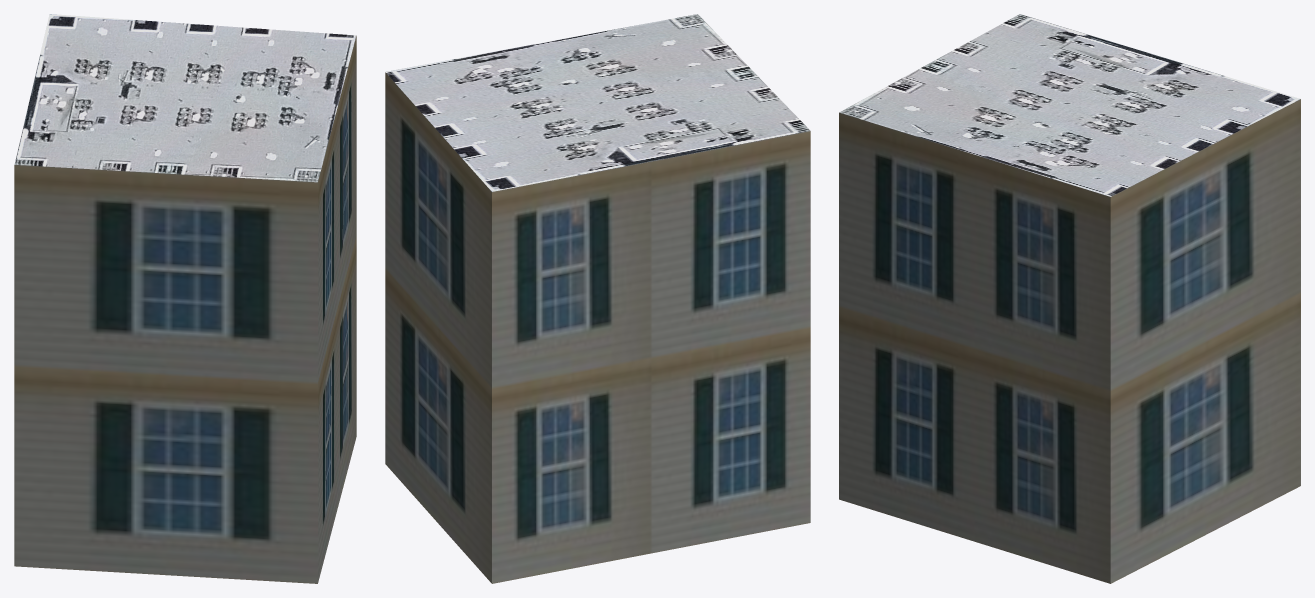
Rendered from ResTex__447.fbx.
3 renders of one model, left to right at view 1: azimuth 30°, elevation 25°; view 2: azimuth 150°, elevation 25°; view 3: azimuth 270°, elevation 25°, orthographic. The views are drawn at different scales.
Visible parts, largest first — view 1: CityEngineMaterial_7_m, CityEngineMaterial_8_m; view 2: CityEngineMaterial_7_m, CityEngineMaterial_8_m; view 3: CityEngineMaterial_7_m, CityEngineMaterial_8_m.
Part boxes in pixels (bbox=[...]): CityEngineMaterial_7_m: bbox=[14, 36, 356, 583]; CityEngineMaterial_8_m: bbox=[14, 14, 356, 182]; CityEngineMaterial_7_m: bbox=[385, 72, 810, 583]; CityEngineMaterial_8_m: bbox=[385, 14, 810, 191]; CityEngineMaterial_7_m: bbox=[839, 99, 1300, 583]; CityEngineMaterial_8_m: bbox=[839, 14, 1300, 196].
Size of the model in its own units: 6.08 by 6 by 6.49.
Materials: 2 (2 with a texture image).
